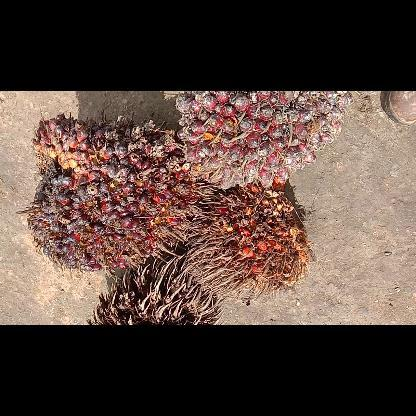Janjang kosong: (87, 254, 228, 324)
Kurang masak: (172, 91, 356, 191)
TBS masak: (16, 112, 206, 272)
Terlalu masak: (185, 180, 313, 300)
